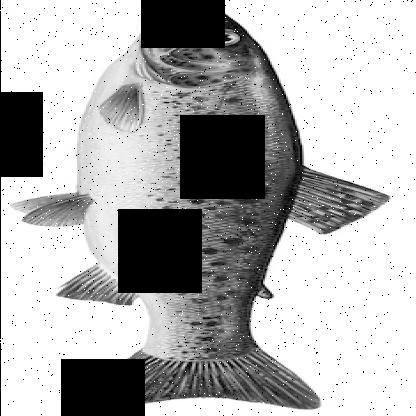fish: (15, 6, 391, 412)
